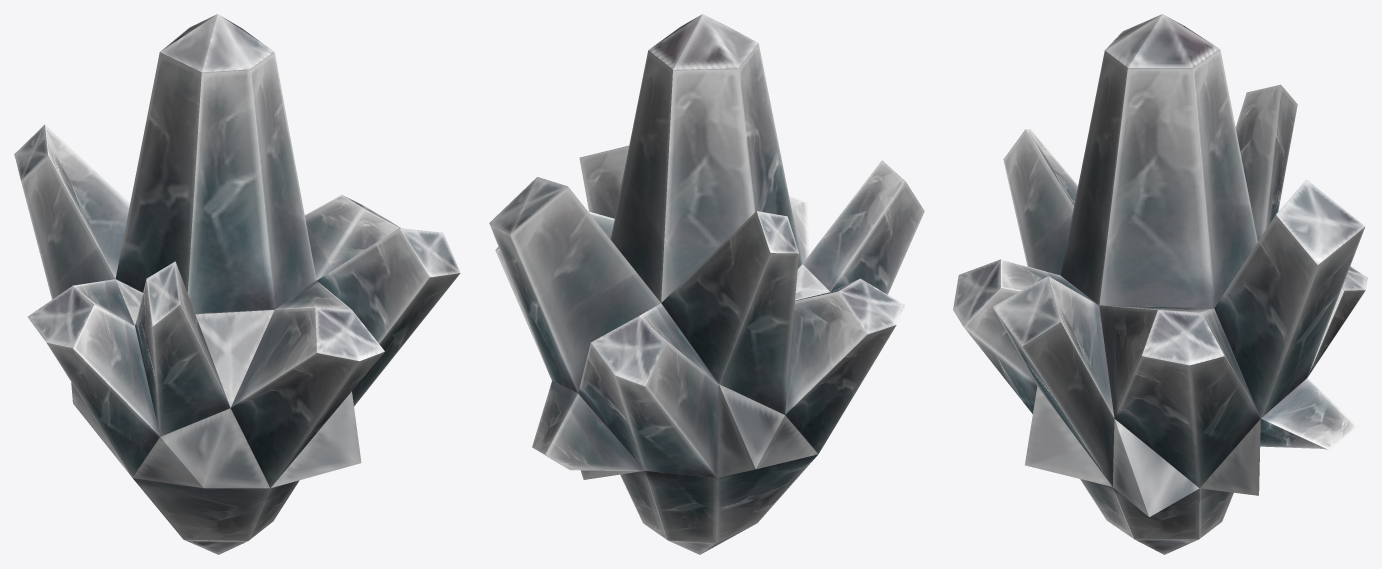
File: Crystal_Med_A_01.FBX
3 renders of one model, left to right at view 1: azimuth 30°, elevation 25°; view 2: azimuth 150°, elevation 25°; view 3: azimuth 270°, elevation 25°, orthographic.
Visible parts, largest first — view 1: Crystal_Med_A_01; view 2: Crystal_Med_A_01; view 3: Crystal_Med_A_01.
Part boxes in pixels (x1=…): Crystal_Med_A_01: x1=14, y1=14, x2=460, y2=554; Crystal_Med_A_01: x1=489, y1=14, x2=924, y2=554; Crystal_Med_A_01: x1=953, y1=14, x2=1367, y2=554.
Size of the model in its own units: 457 by 643 by 447.
Materials: 1 (1 with a texture image).
